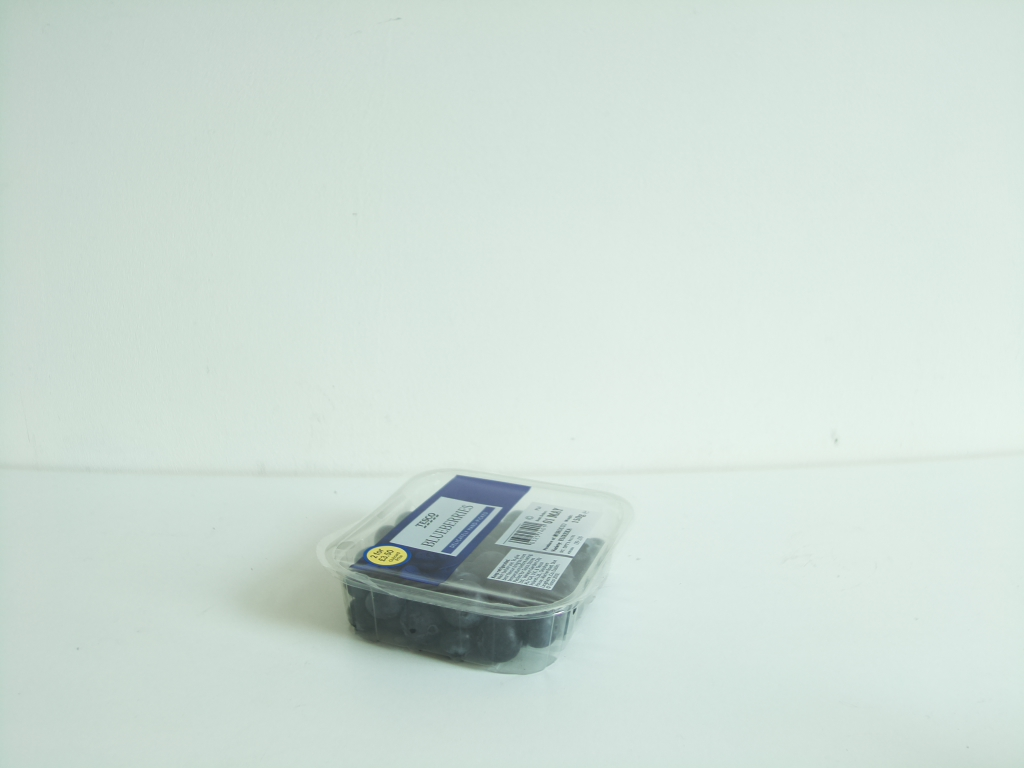soft-fruit: (322, 470, 638, 680)
